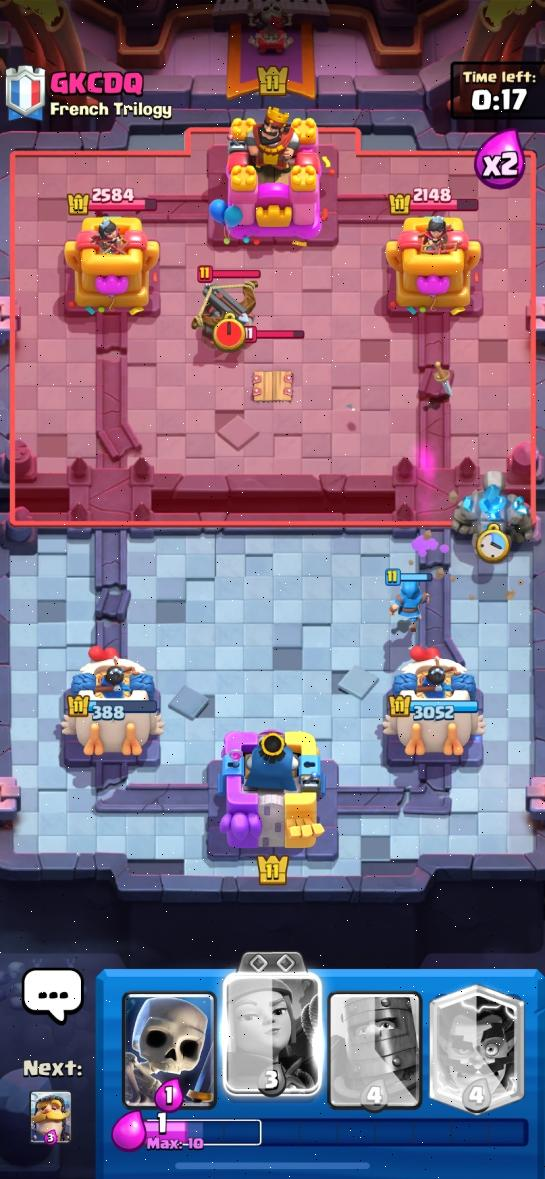EKingTower: (210, 107, 335, 244)
ETesla: (252, 370, 293, 402)
EXbow: (192, 267, 258, 352)
EnemyPrincessTower: (65, 199, 159, 315), (386, 203, 480, 315)
OGolem: (452, 471, 539, 562)
OWizard: (386, 568, 434, 642)
OwnKingTower: (219, 732, 324, 850)
OwnPrincessTower: (383, 646, 482, 758), (62, 650, 162, 757)
